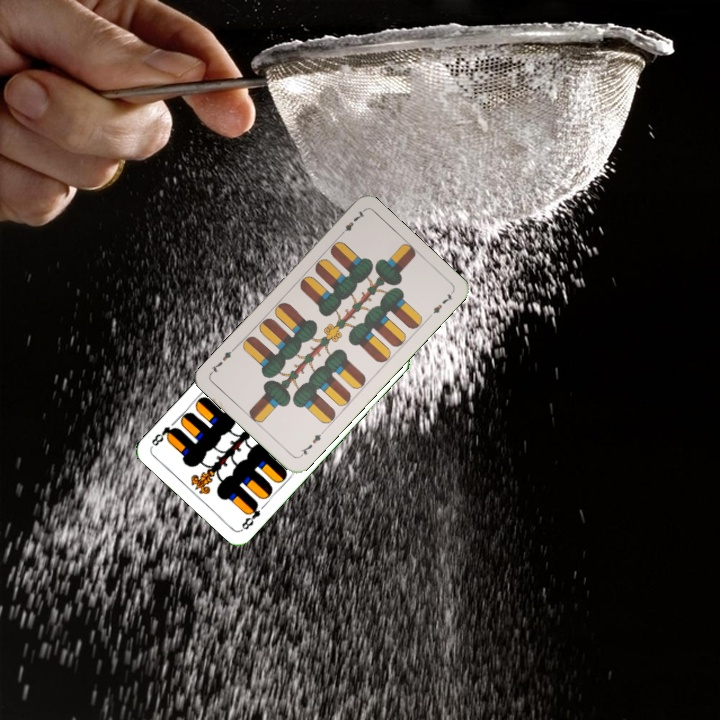E7: (335, 206, 368, 240), (295, 426, 327, 460)
E8: (237, 498, 263, 532)
